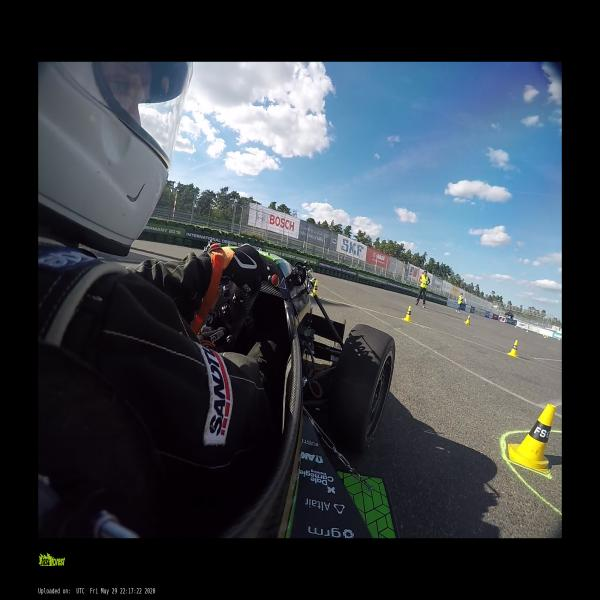yellow_cone: (508, 405, 558, 474), (508, 340, 519, 358), (404, 306, 412, 322), (311, 280, 318, 297), (464, 315, 470, 325), (526, 329, 528, 333), (544, 336, 546, 338)
